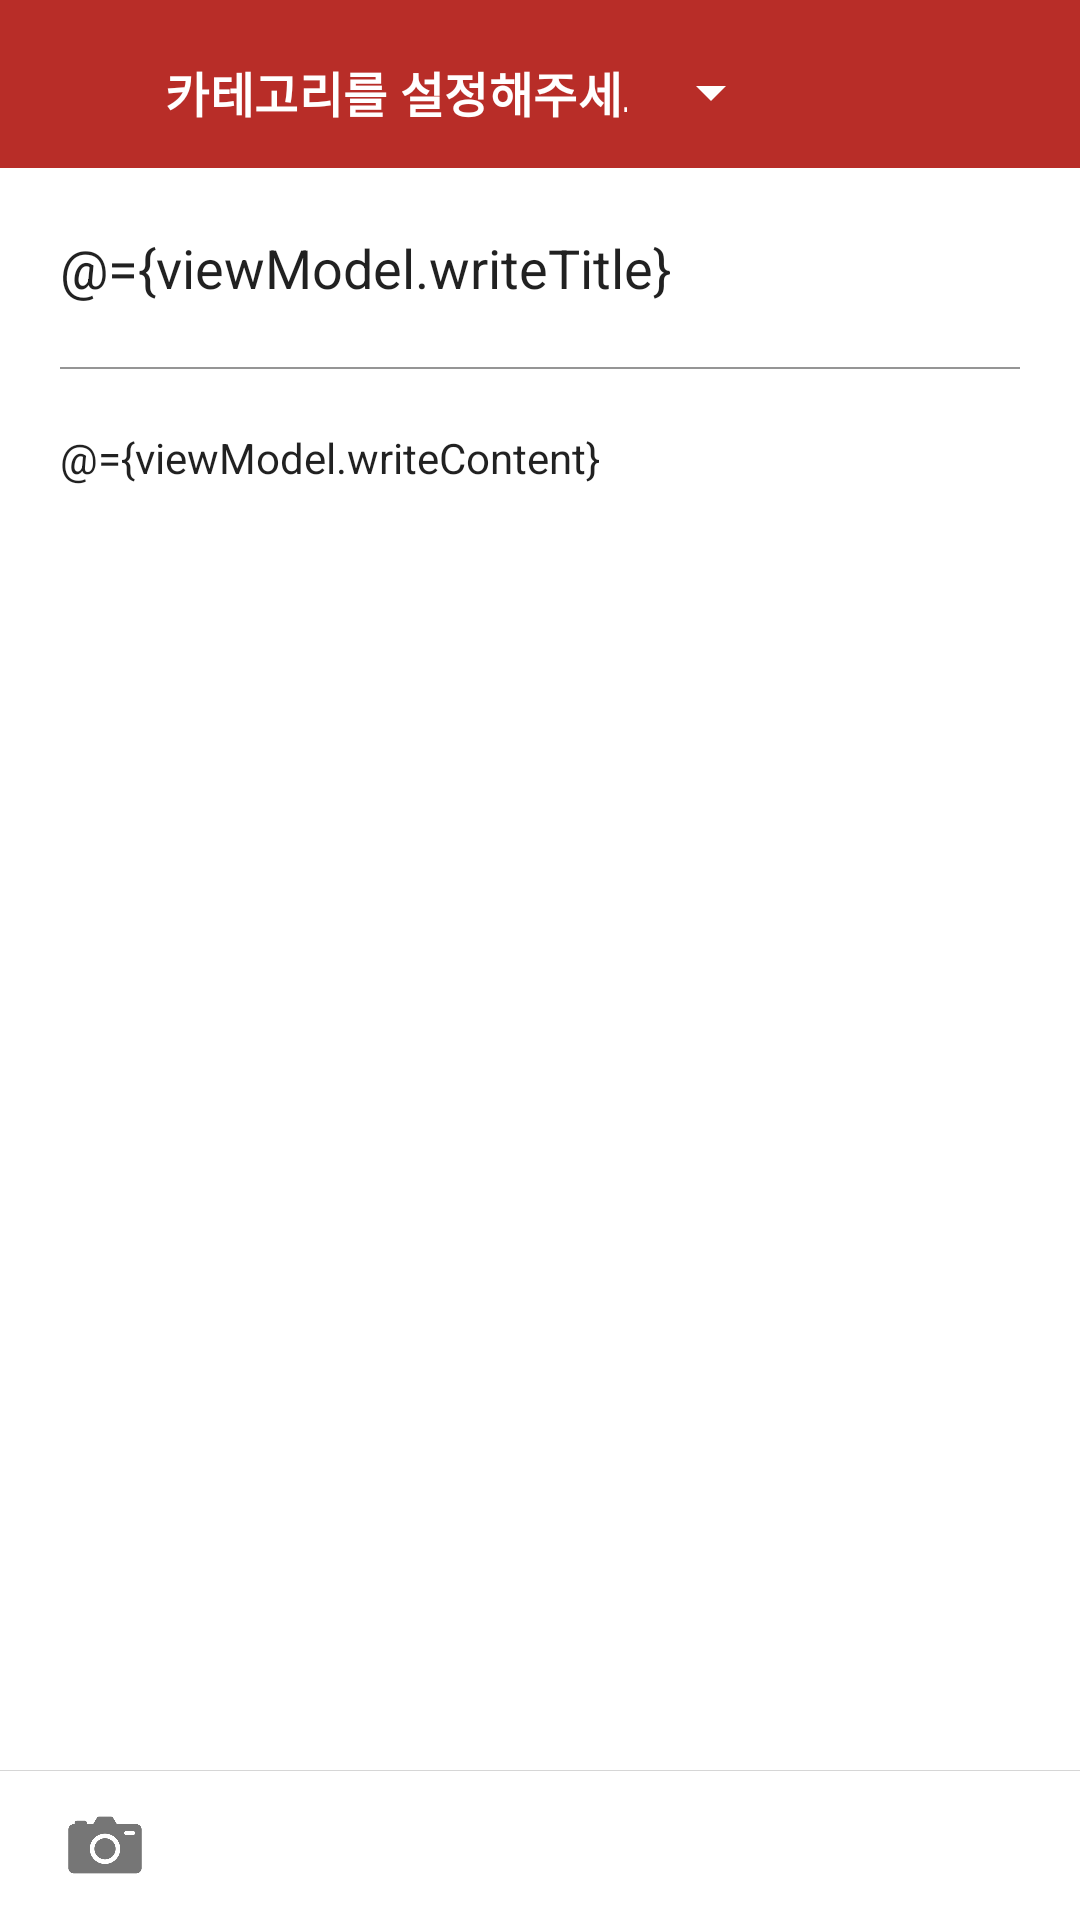

Icons on this 1080w x 1920h Android screen, each with its box as (x1, y1, x2, y2):
profile camera: (68, 1816, 142, 1874)
